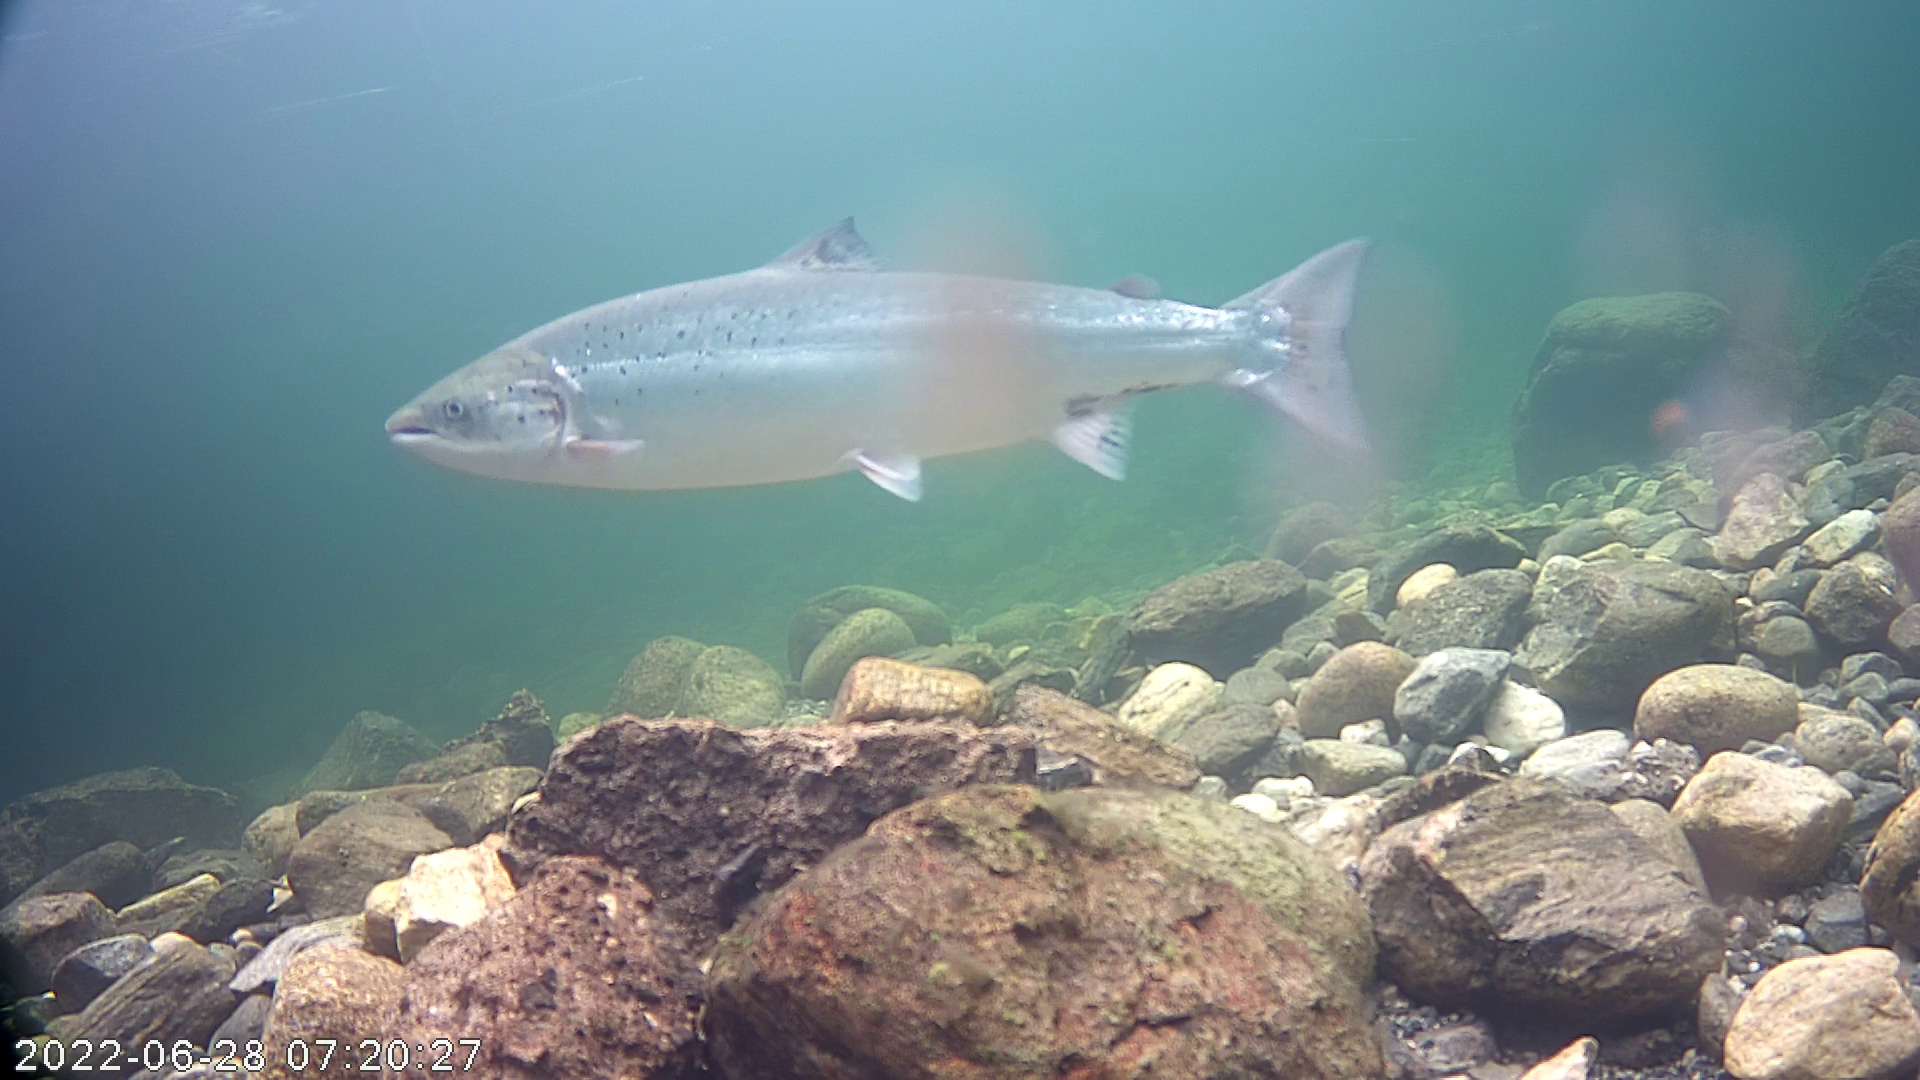salmon: (359, 121, 1429, 566)
